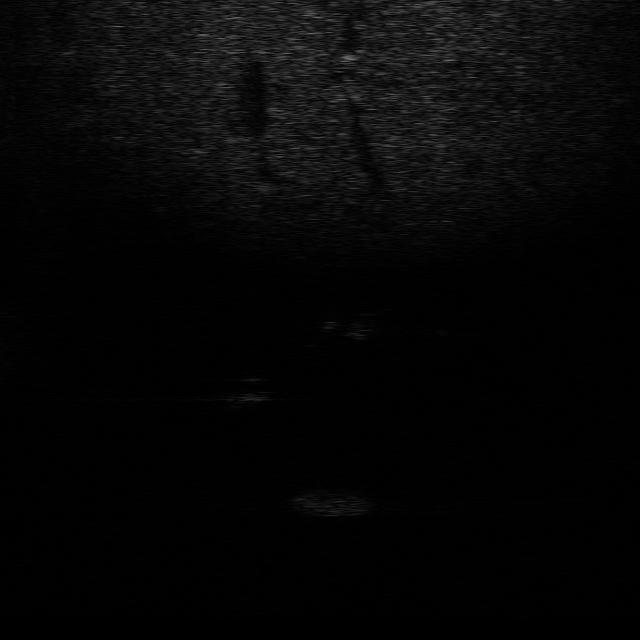ball: (212, 372, 278, 410)
circle cage: (285, 485, 381, 520)
human body: (312, 306, 378, 340)
